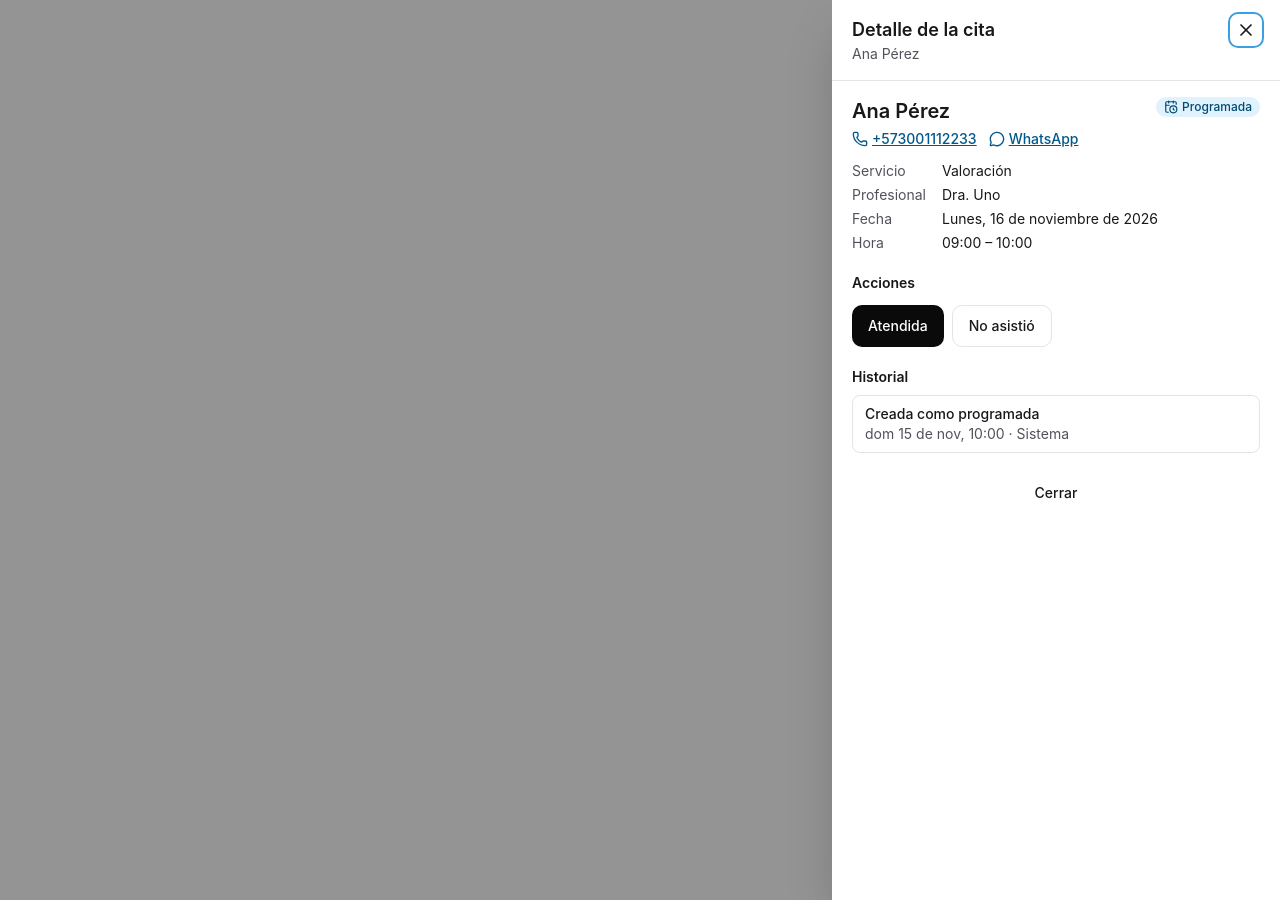
Scenario: hoja de cita › un desenlace anticipado muestra el mensaje de la API y recarga el dato
This screenshot has width=1280, height=900.
Click the button "Atendida". click: (898, 326)
box: [852,305,944,347]
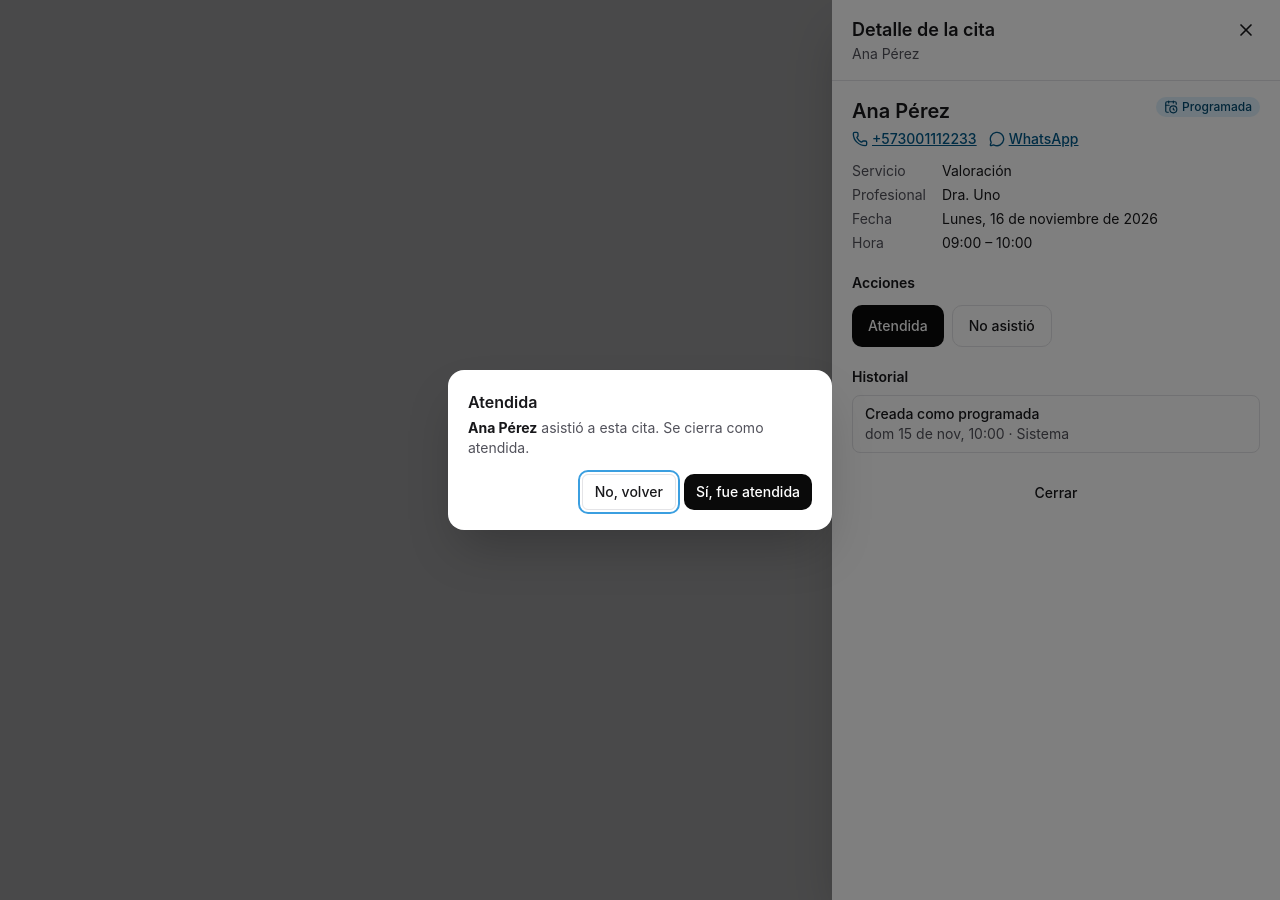
Click the button "Sí, fue atendida". click: (748, 492)
box: [684,474,812,510]
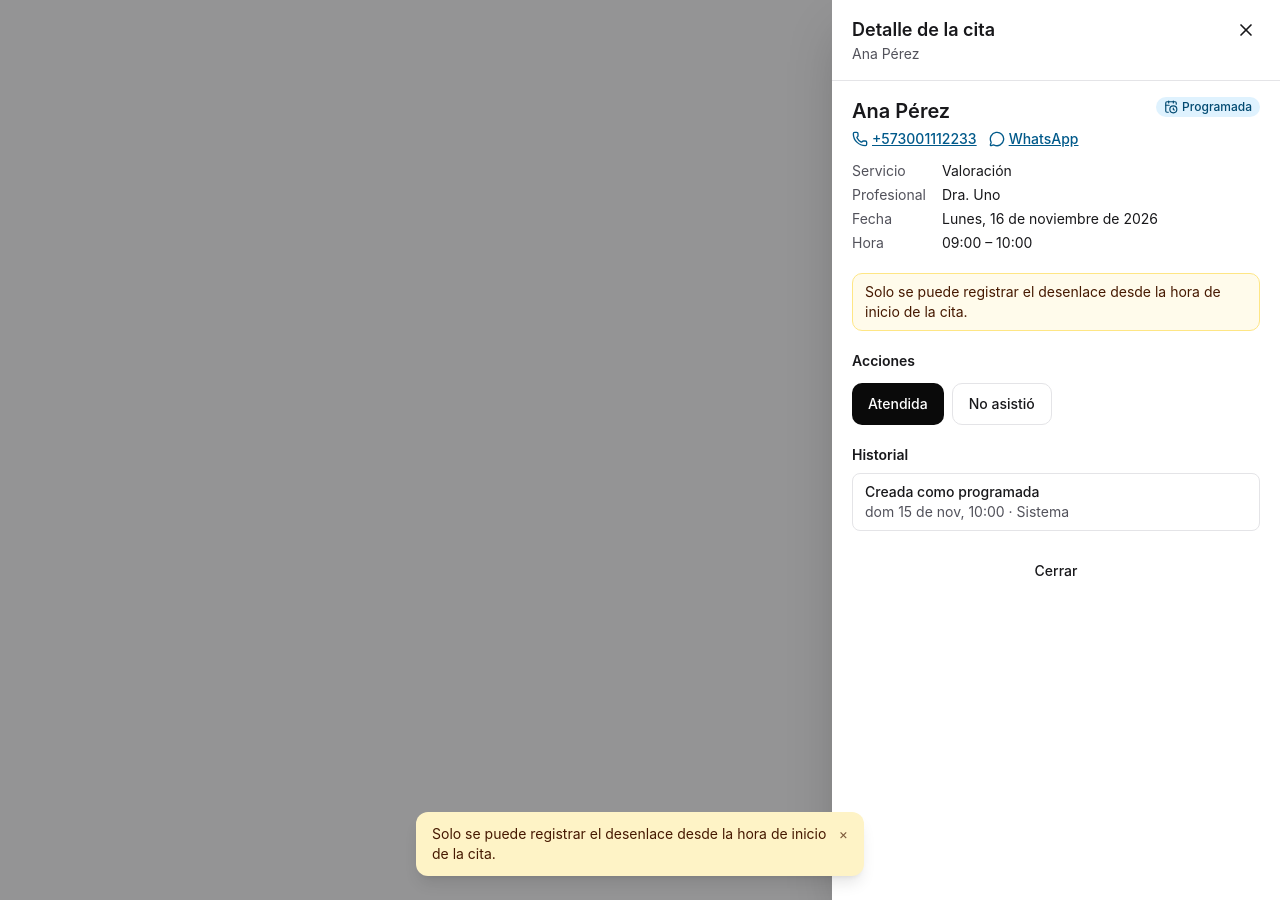
Check: the text "desde la hora de inicio" is shown, box [432,825,826,862]
